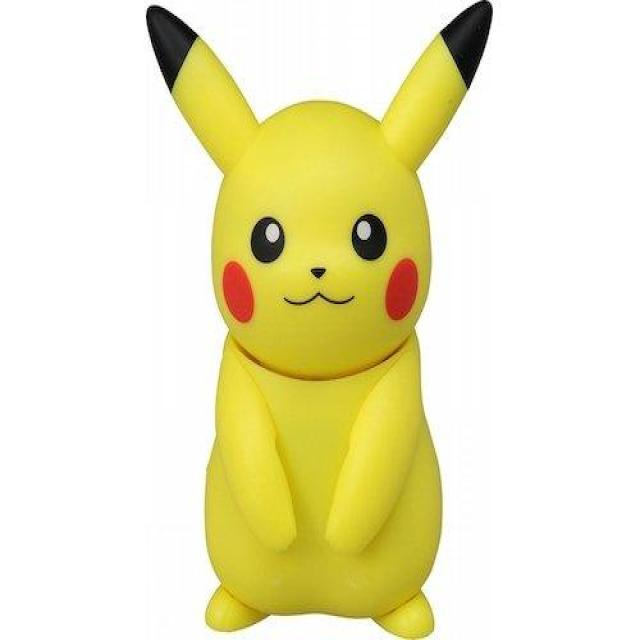pikachu: (146, 2, 493, 639)
